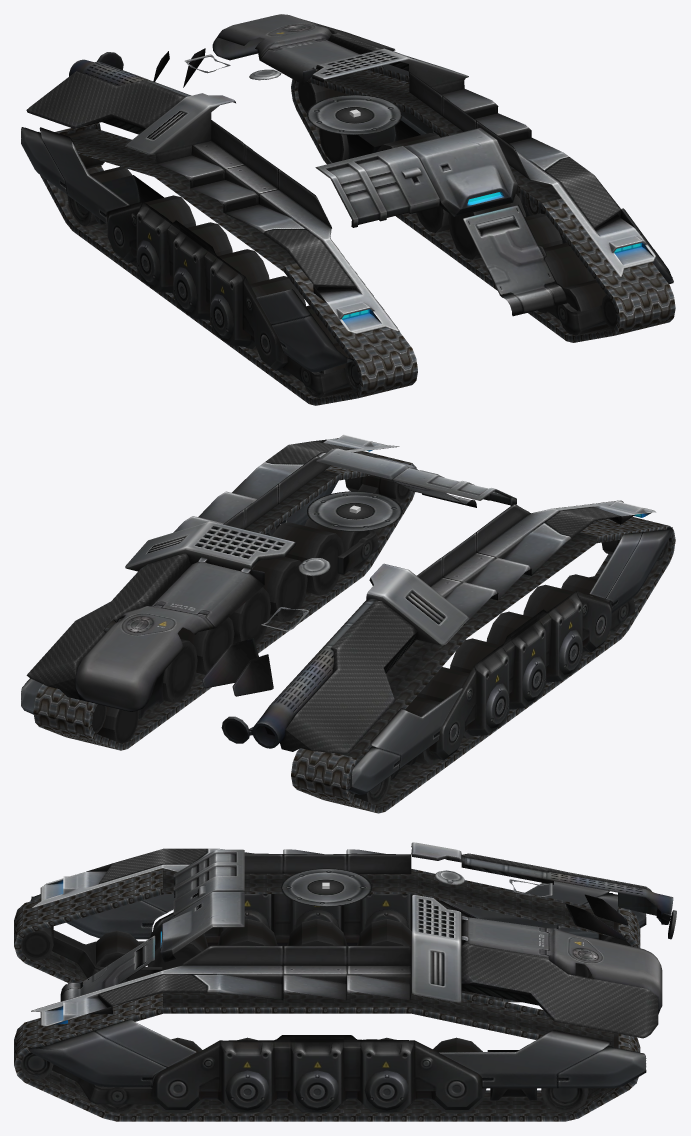
The model's file is Titan_Standart.fbx.
The picture shows the model from 3 angles, top to bottom: view 1: azimuth 30°, elevation 25°; view 2: azimuth 150°, elevation 25°; view 3: azimuth 270°, elevation 25°; orthographic projection. The views are drawn at different scales.
Parts seen in each view (by area): view 1: Hull, rTrack, lTrack, lwheel_2, lwheel_1, lwheel_4, rwheel_4, rwheel_6, rwheel_7, lwheel_3, rwheel_5, lwheel_7 (+3 smaller); view 2: Hull, rTrack, lTrack, lwheel_2, lwheel_3, lwheel_5, lwheel_4, lwheel_6, rwheel_5, lwheel_7, rwheel_4, rwheel_2 (+5 smaller); view 3: Hull, lTrack, rTrack, rwheel_4, rwheel_5, rwheel_3, rwheel_1, lwheel_7, rwheel_2, rwheel_f, lwheel_6, lwheel_f (+1 smaller).
Boxes of the visible parts, <box> form: Hull: <box>21,14,673,393</box>; rTrack: <box>40,123,417,405</box>; lTrack: <box>291,67,675,342</box>; lwheel_2: <box>537,242,594,313</box>; lwheel_1: <box>561,280,608,335</box>; lwheel_4: <box>448,194,525,259</box>; rwheel_4: <box>209,249,269,320</box>; rwheel_6: <box>131,195,195,266</box>; rwheel_7: <box>67,166,132,226</box>; lwheel_3: <box>524,213,562,247</box>; rwheel_5: <box>172,222,232,293</box>; lwheel_7: <box>319,129,348,162</box>; Hull: <box>21,434,673,794</box>; rTrack: <box>291,517,675,813</box>; lTrack: <box>33,451,416,750</box>; lwheel_2: <box>272,522,344,595</box>; lwheel_3: <box>252,557,307,622</box>; lwheel_5: <box>177,617,234,674</box>; lwheel_4: <box>229,587,270,645</box>; lwheel_6: <box>162,639,197,702</box>; rwheel_5: <box>417,667,473,738</box>; lwheel_7: <box>96,706,139,743</box>; rwheel_4: <box>450,638,510,710</box>; rwheel_2: <box>523,584,593,656</box>; Hull: <box>30,842,676,1112</box>; lTrack: <box>14,992,640,1121</box>; rTrack: <box>14,868,640,1002</box>; rwheel_4: <box>287,919,347,945</box>; rwheel_5: <box>357,919,411,945</box>; rwheel_3: <box>217,919,277,945</box>; rwheel_1: <box>96,930,138,966</box>; lwheel_7: <box>541,1088,588,1112</box>; rwheel_2: <box>147,921,208,970</box>; rwheel_f: <box>21,926,53,960</box>; lwheel_6: <box>430,1037,486,1113</box>; lwheel_f: <box>21,1052,53,1079</box>.
Bounding box in the file's own units: 4.32 × 2.02 × 7.36.
